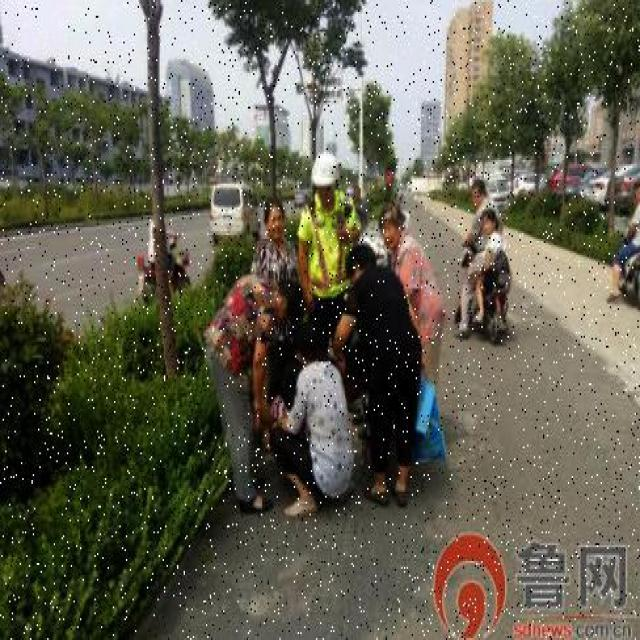fall: (264, 324, 359, 514)
